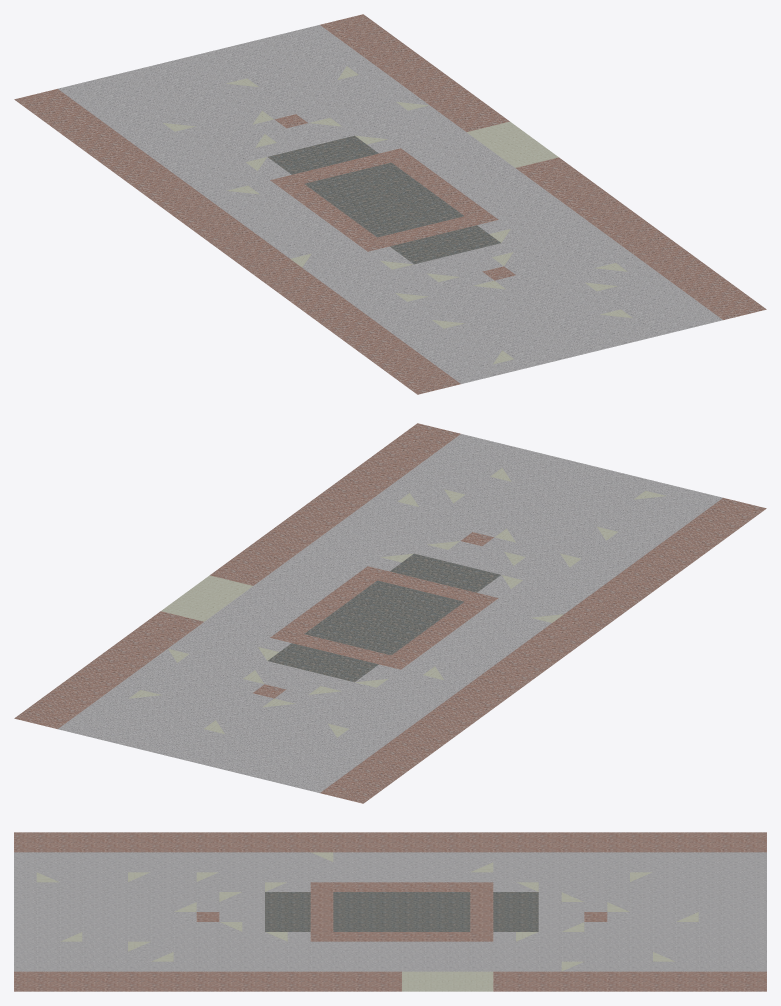
File: MA_Floor_01.FBX
3 views of the same model, one above another, from view 1: azimuth 30°, elevation 25°; view 2: azimuth 150°, elevation 25°; view 3: azimuth 270°, elevation 25° (orthographic). The views are drawn at different scales.
Visible parts, largest first — view 1: MA_Floor_01; view 2: MA_Floor_01; view 3: MA_Floor_01.
Boxes of the visible parts, left/top/right/bottom form: MA_Floor_01: left=14, top=14, right=766, bottom=394; MA_Floor_01: left=14, top=423, right=766, bottom=803; MA_Floor_01: left=14, top=832, right=766, bottom=991.
Size of the model in its own units: 1031 by 5.68e-13 by 2062.
